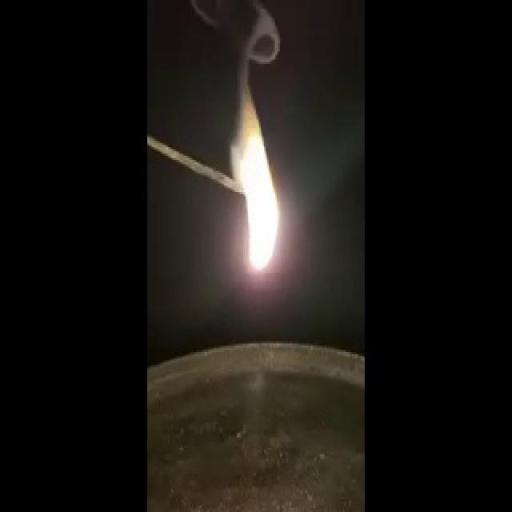smoke: (222, 85, 284, 286)
